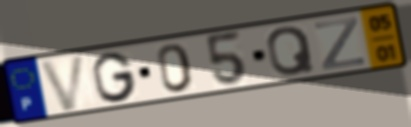0: (155, 42, 195, 94)
5: (202, 29, 249, 90)
G: (90, 50, 140, 105)
Q: (265, 25, 318, 78)
V: (36, 51, 89, 114)
Z: (312, 14, 367, 73)
